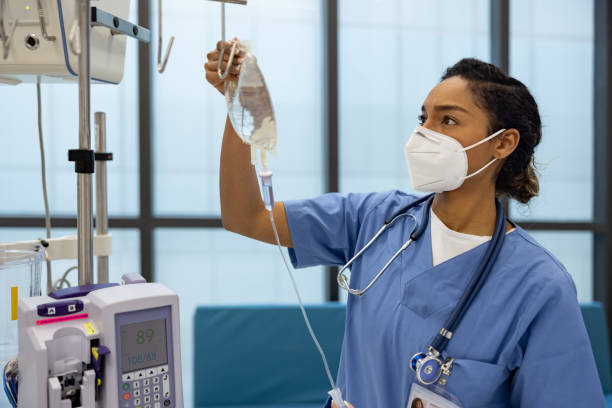infusion_pump: (15, 289, 185, 408)
iv_pole: (74, 1, 248, 286)
staff: (204, 35, 612, 408)
